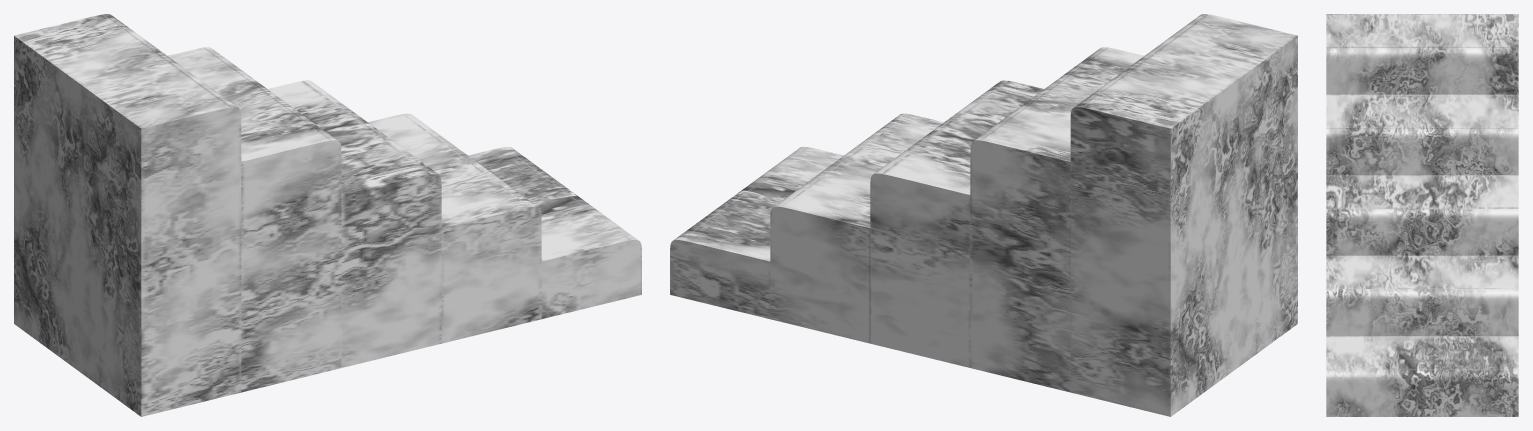
The model's file is stairs.glb.
3 views of the same model, side by side, from view 1: azimuth 30°, elevation 25°; view 2: azimuth 150°, elevation 25°; view 3: azimuth 270°, elevation 25° (orthographic). The views are drawn at different scales.
Parts seen in each view (by area): view 1: Stairs; view 2: Stairs; view 3: Stairs.
Part boxes in pixels (left/top/right/bottom): Stairs: left=14, top=14, right=641, bottom=416; Stairs: left=670, top=14, right=1297, bottom=416; Stairs: left=1326, top=14, right=1518, bottom=416.
Bounding box in the file's own units: 9.09 × 5 × 4.
1 material, 1 textured.
